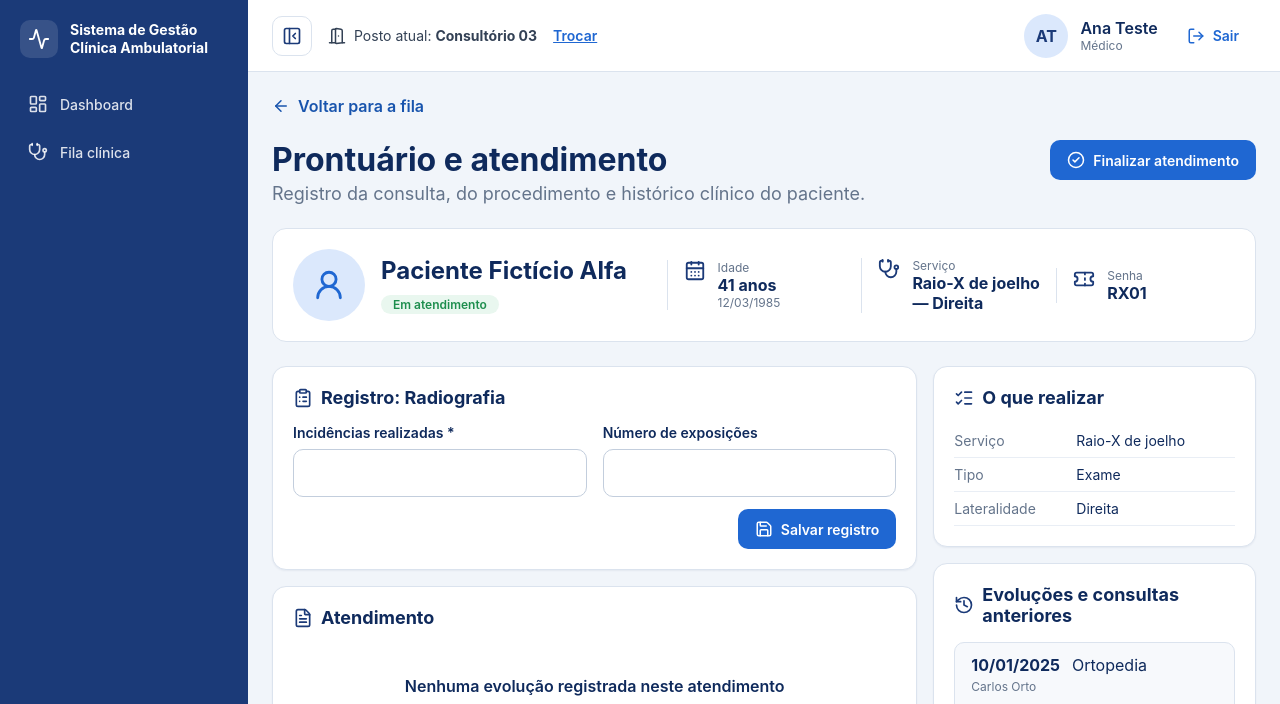
Test case: EncounterPage › finaliza somente após confirmação e volta para a fila
Click the button "Finalizar atendimento" at (1153, 160), box [1050,140,1256,180]
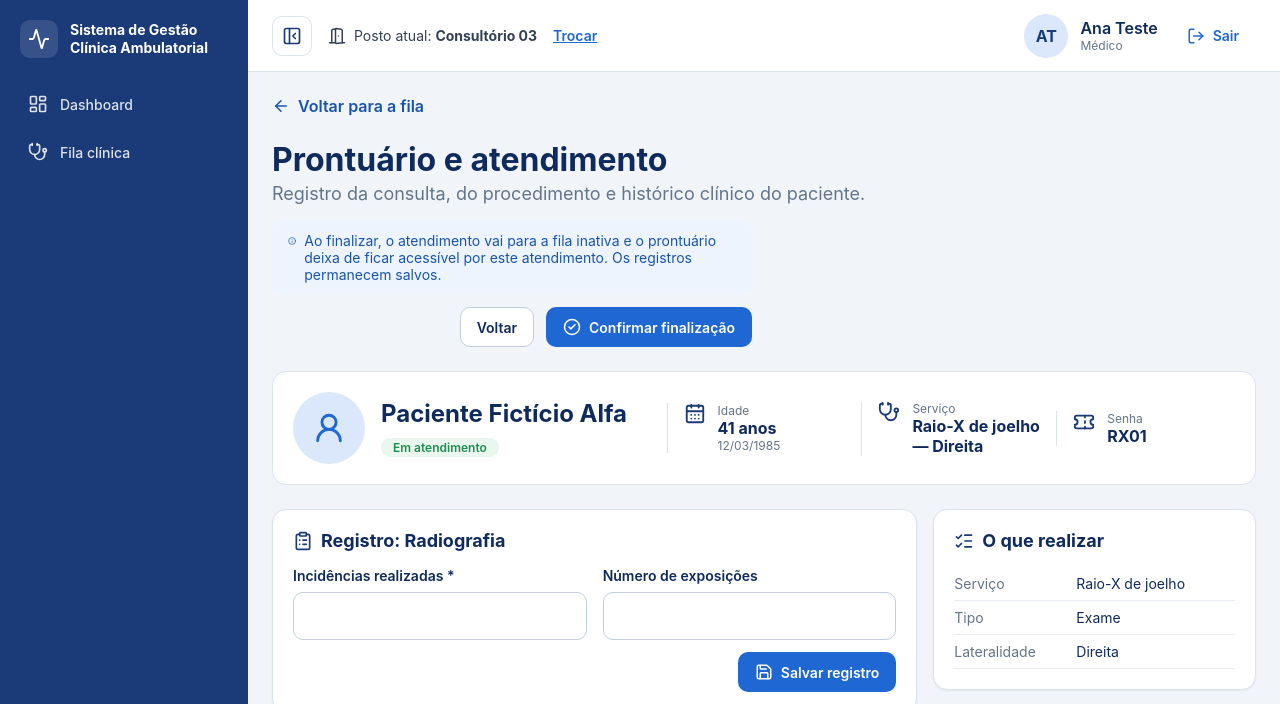
Click the button "Confirmar finalização" at (649, 327), box [546,307,752,347]
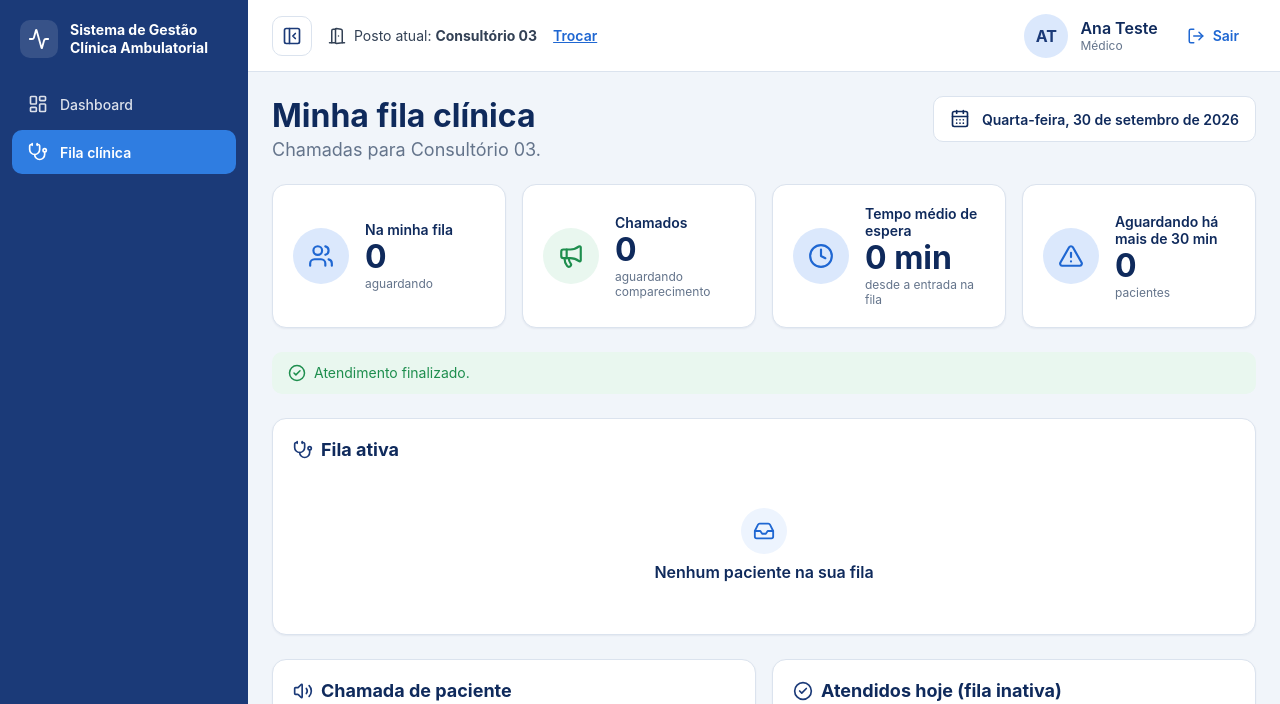
Expected: the text "Atendimento finalizado." is shown, [314,364,470,381]
